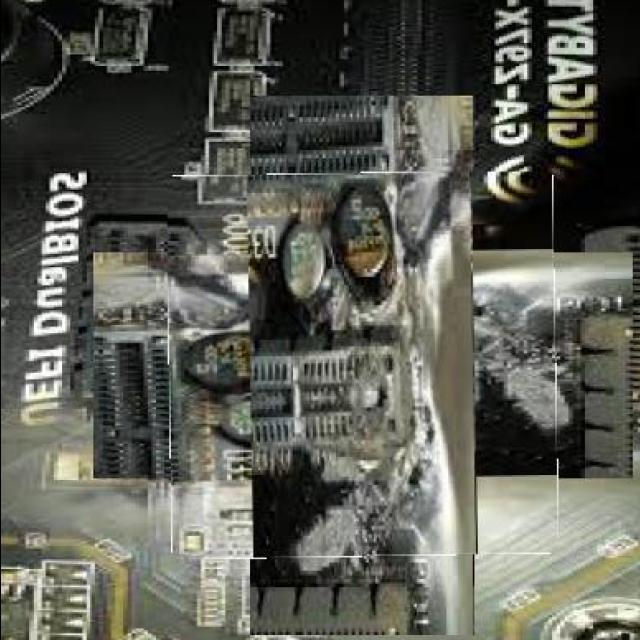Burn: (166, 171, 556, 558)
